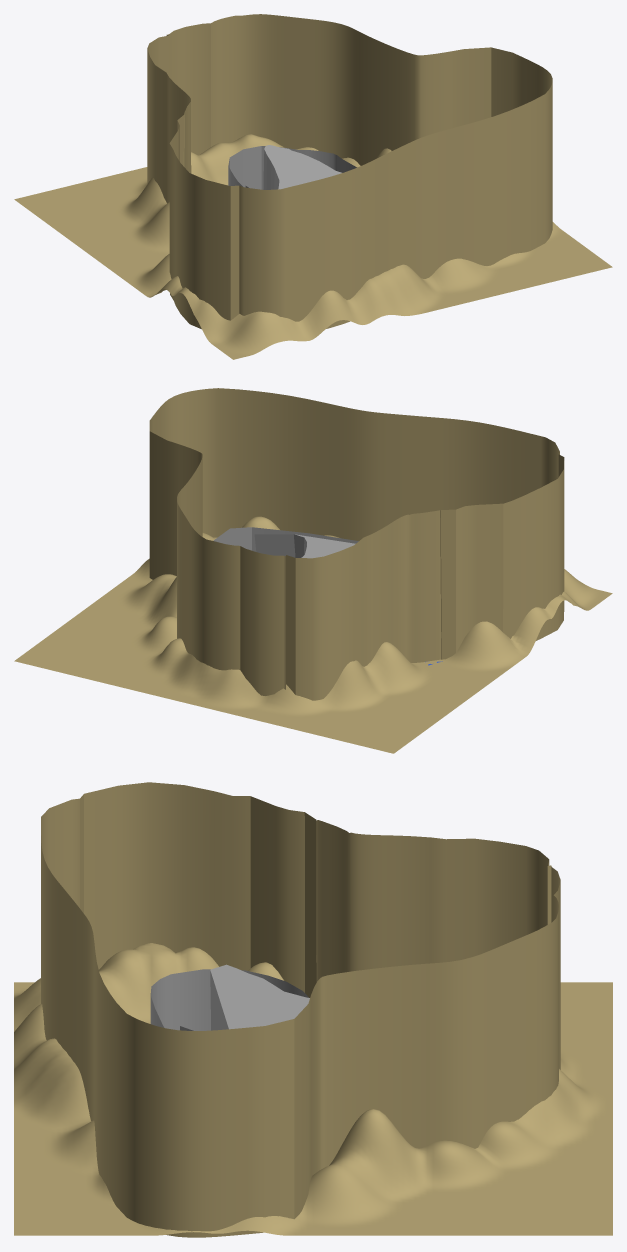
The model's file is Sertão2D v2.fbx.
3 renders of one model, top to bottom at view 1: azimuth 30°, elevation 25°; view 2: azimuth 150°, elevation 25°; view 3: azimuth 270°, elevation 25°, orthographic. The views are drawn at different scales.
Parts seen in each view (by area): view 1: BackDrop, Fundo1, Parede_Invisivel_Interna, Parede_Invisivel_Externa; view 2: BackDrop, Fundo1, Parede_Invisivel_Interna, Parede_Invisivel_Externa; view 3: BackDrop, Fundo1, Parede_Invisivel_Interna, Parede_Invisivel_Externa.
Boxes of the visible parts, bbox=[...] form: BackDrop: bbox=[147, 14, 552, 329]; Fundo1: bbox=[14, 134, 612, 359]; Parede_Invisivel_Interna: bbox=[263, 145, 341, 189]; Parede_Invisivel_Externa: bbox=[228, 146, 356, 189]; BackDrop: bbox=[149, 388, 564, 700]; Fundo1: bbox=[14, 516, 612, 753]; Parede_Invisivel_Interna: bbox=[254, 534, 355, 558]; Parede_Invisivel_Externa: bbox=[213, 527, 358, 551]; BackDrop: bbox=[41, 782, 560, 1237]; Fundo1: bbox=[14, 943, 612, 1235]; Parede_Invisivel_Interna: bbox=[210, 964, 309, 1030]; Parede_Invisivel_Externa: bbox=[150, 969, 308, 1030].
Size of the model in its own units: 50 by 20.94 by 50.
